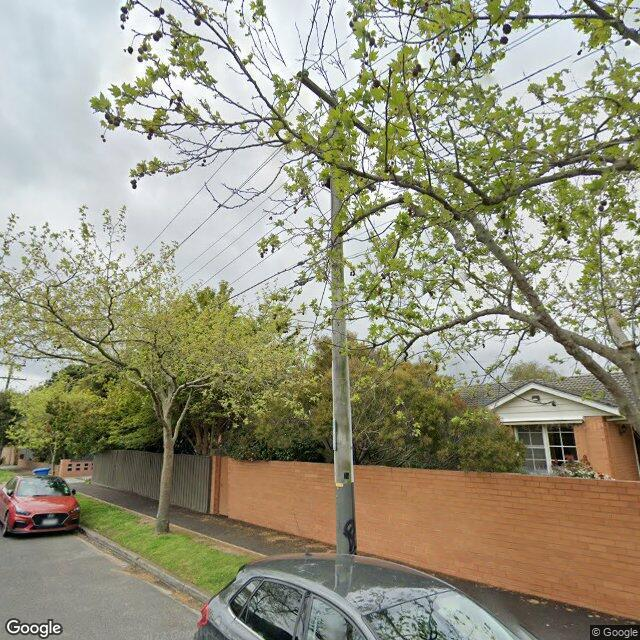HV-transmission: (302, 69, 336, 99)
crossarm: (296, 71, 372, 136), (0, 362, 26, 366), (0, 376, 26, 380)
timber-pole: (330, 97, 356, 556), (6, 361, 14, 389)
